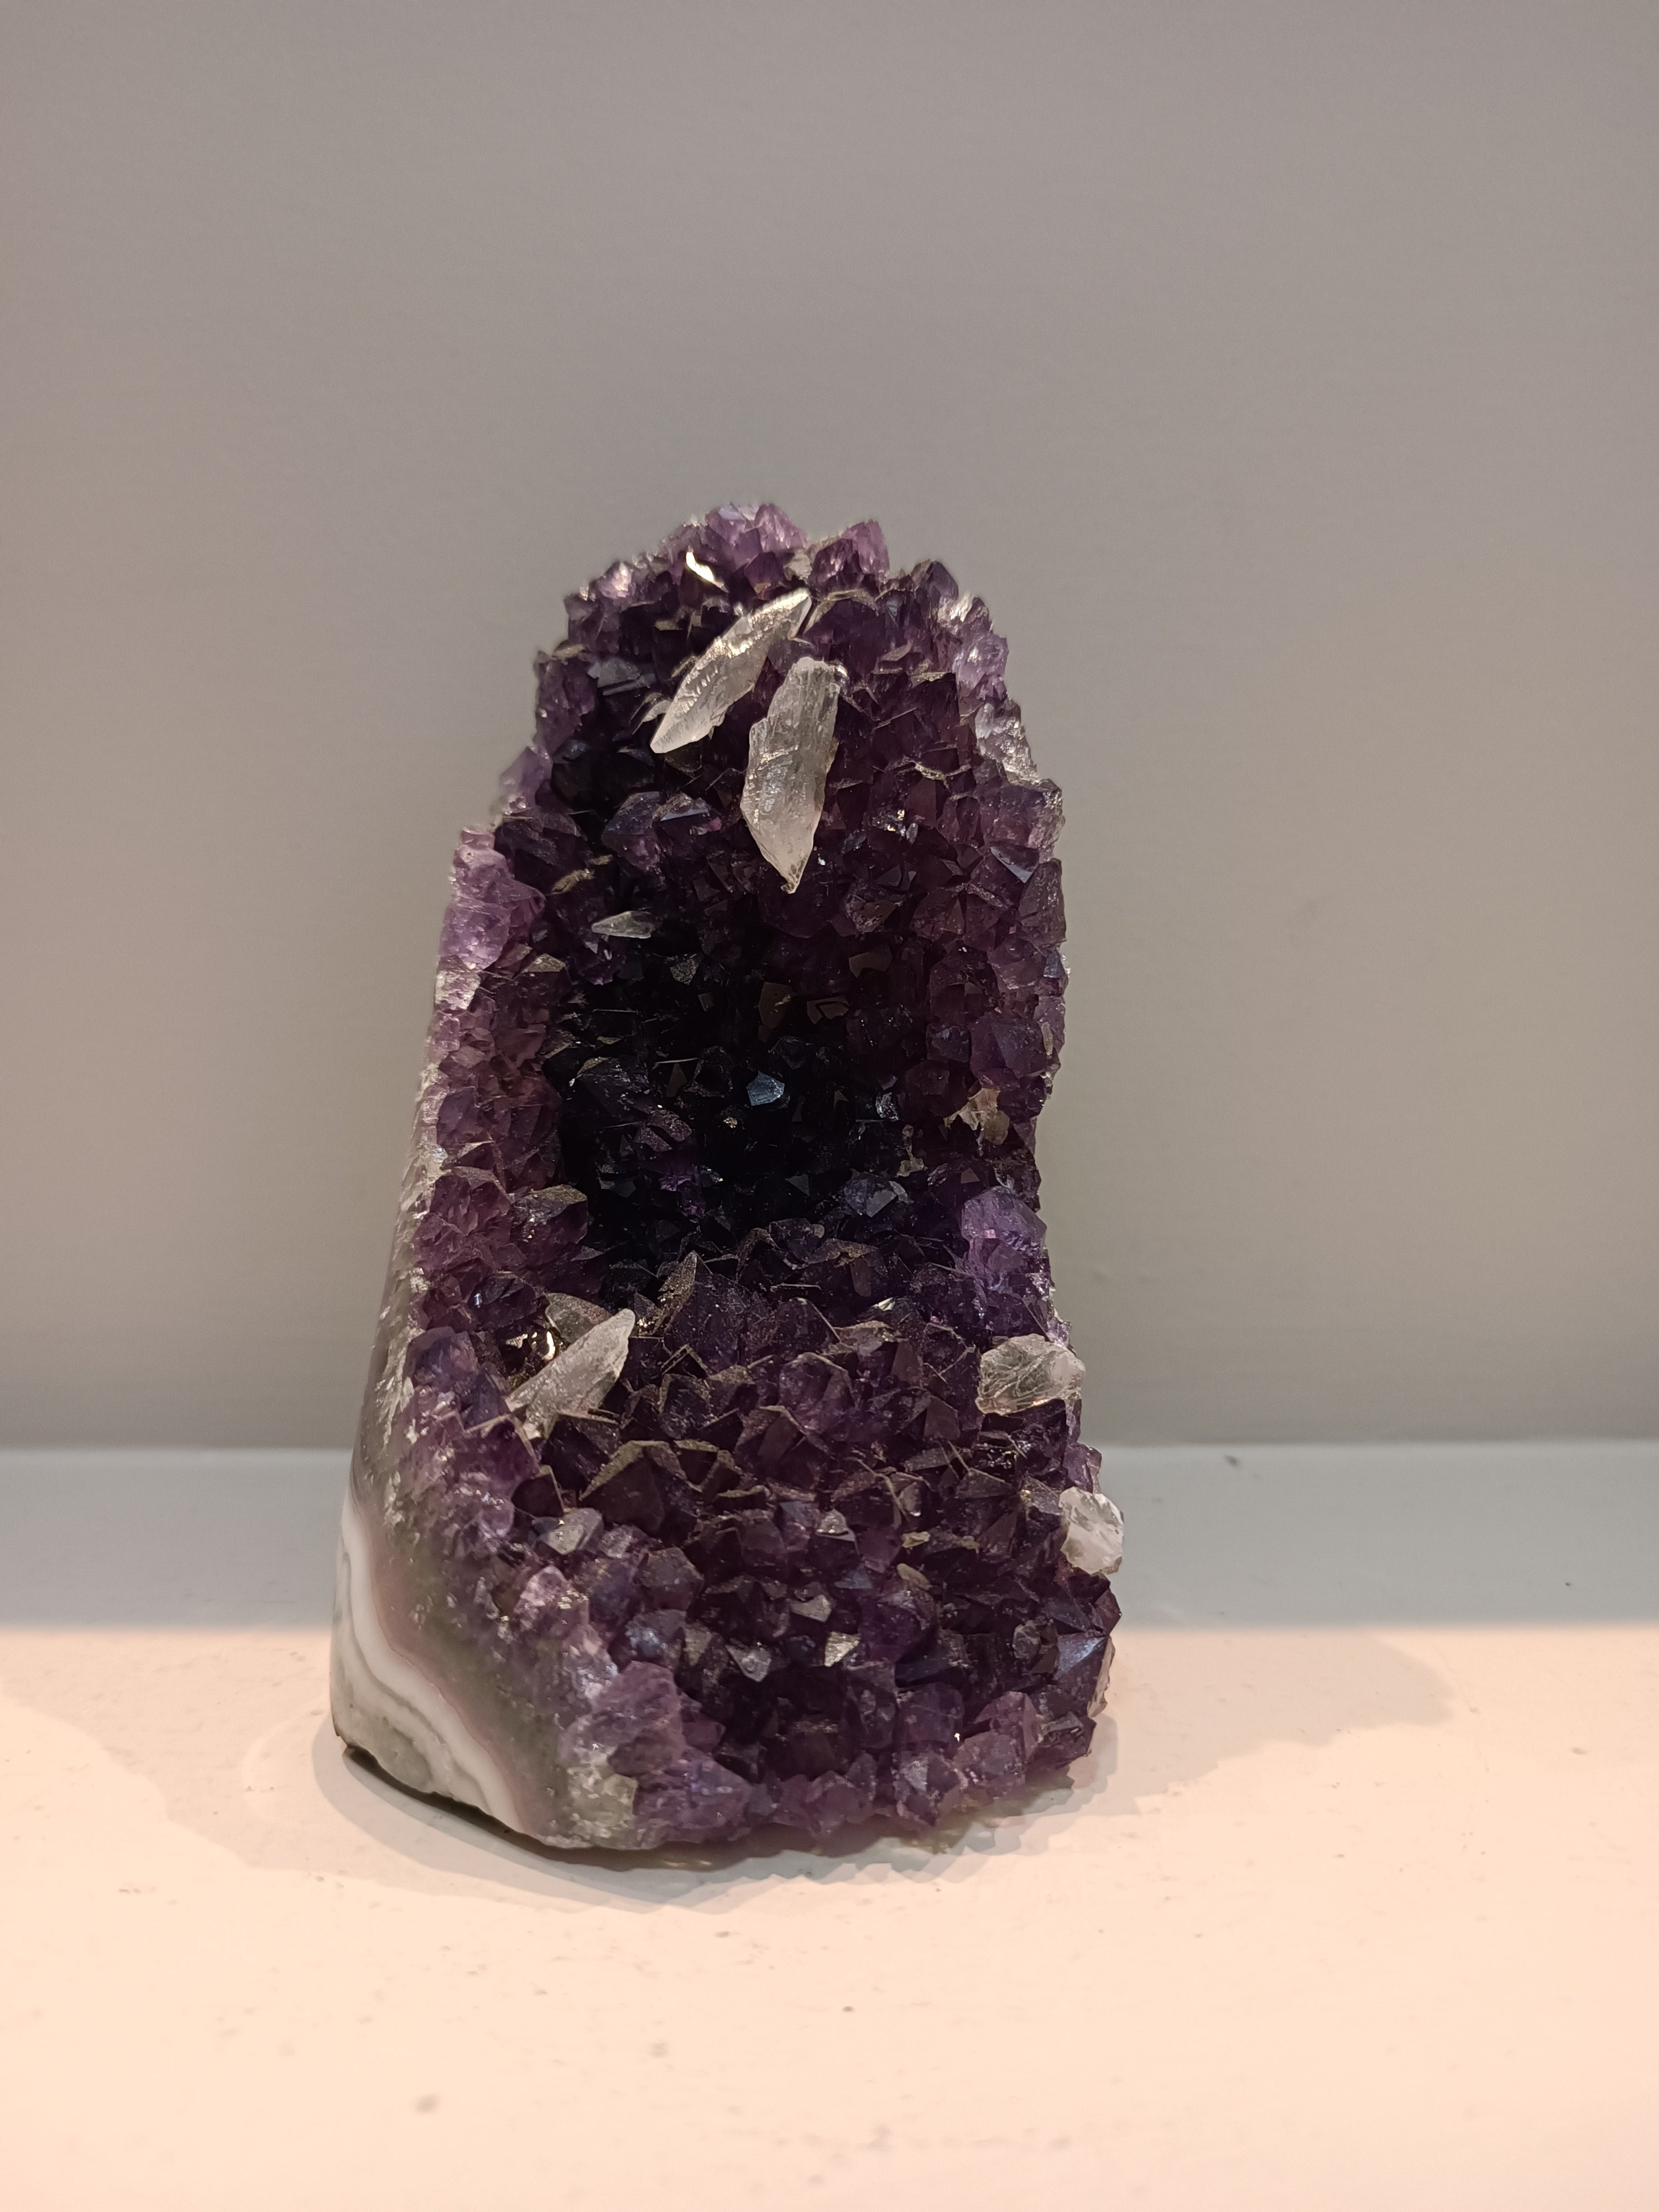Amethyst: (315, 491, 1190, 1855)
